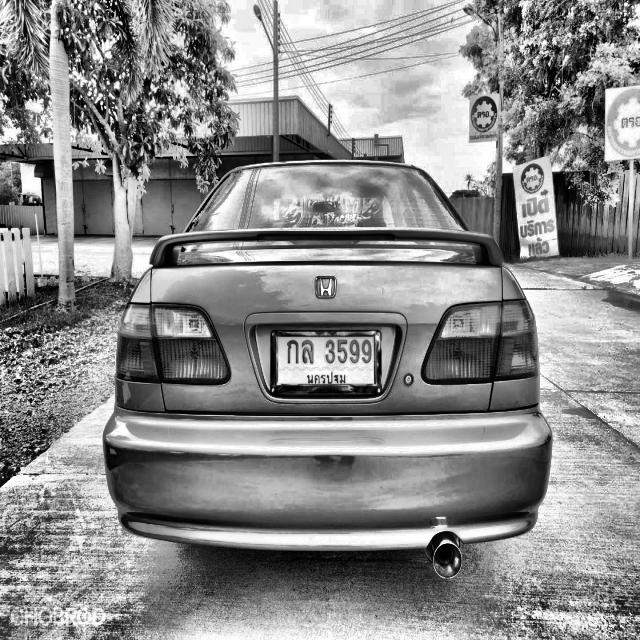license-plate: (271, 328, 382, 399)
